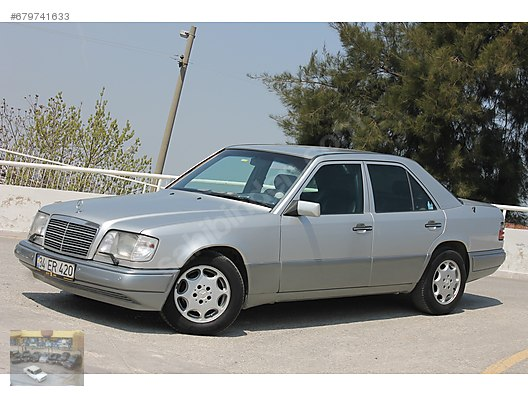mercedes: (1, 139, 433, 341)
